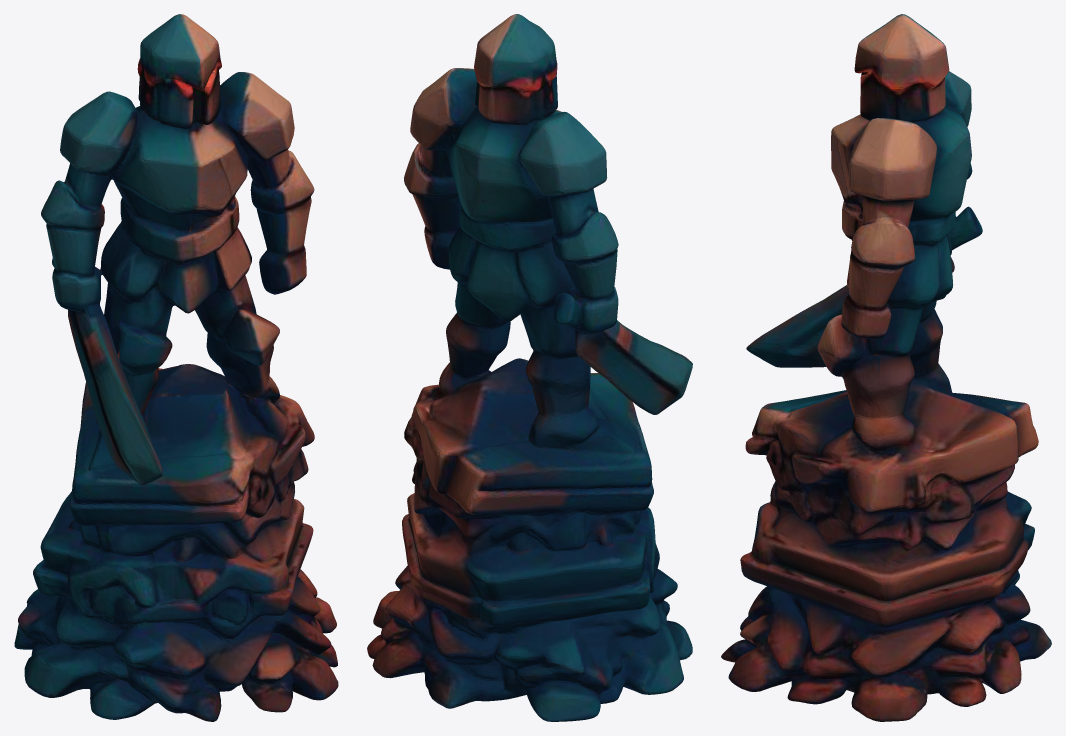
File: APEXWARDEN.glb
3 views of the same model, side by side, from view 1: azimuth 30°, elevation 25°; view 2: azimuth 150°, elevation 25°; view 3: azimuth 270°, elevation 25° (orthographic).
Visible parts, largest first — view 1: APEXWARDEN; view 2: APEXWARDEN; view 3: APEXWARDEN.
Part boxes in pixels (x1,y1,x2,y2): APEXWARDEN: (14, 14, 338, 721); APEXWARDEN: (367, 14, 692, 721); APEXWARDEN: (721, 14, 1051, 721).
Bounding box in the file's own units: 0.9699 × 1.99 × 0.9329.
1 material, 1 textured.
